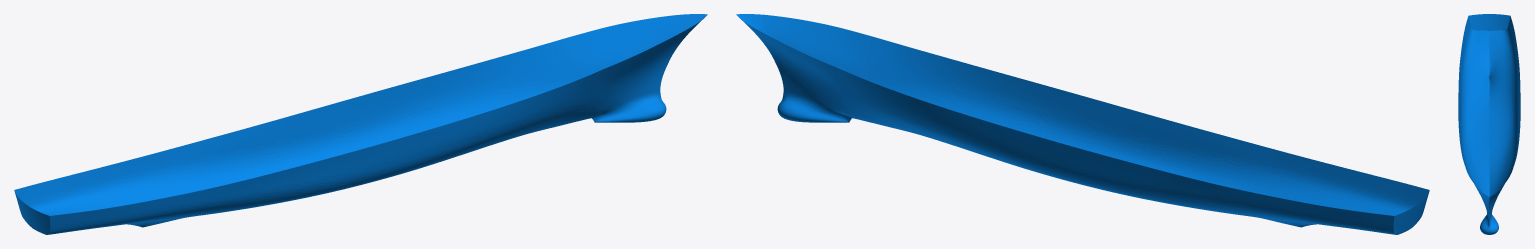
Rendered from dtmb.glb.
3 views of the same model, side by side, from view 1: azimuth 30°, elevation 25°; view 2: azimuth 150°, elevation 25°; view 3: azimuth 270°, elevation 25° (orthographic). The views are drawn at different scales.
Parts seen in each view (by area): view 1: dtmb; view 2: dtmb; view 3: dtmb.
Part boxes in pixels (x1,y1,x2,y2): dtmb: [14, 14, 707, 234]; dtmb: [736, 14, 1429, 234]; dtmb: [1458, 14, 1520, 234].
Size of the model in its own units: 6171 by 773 by 827.
